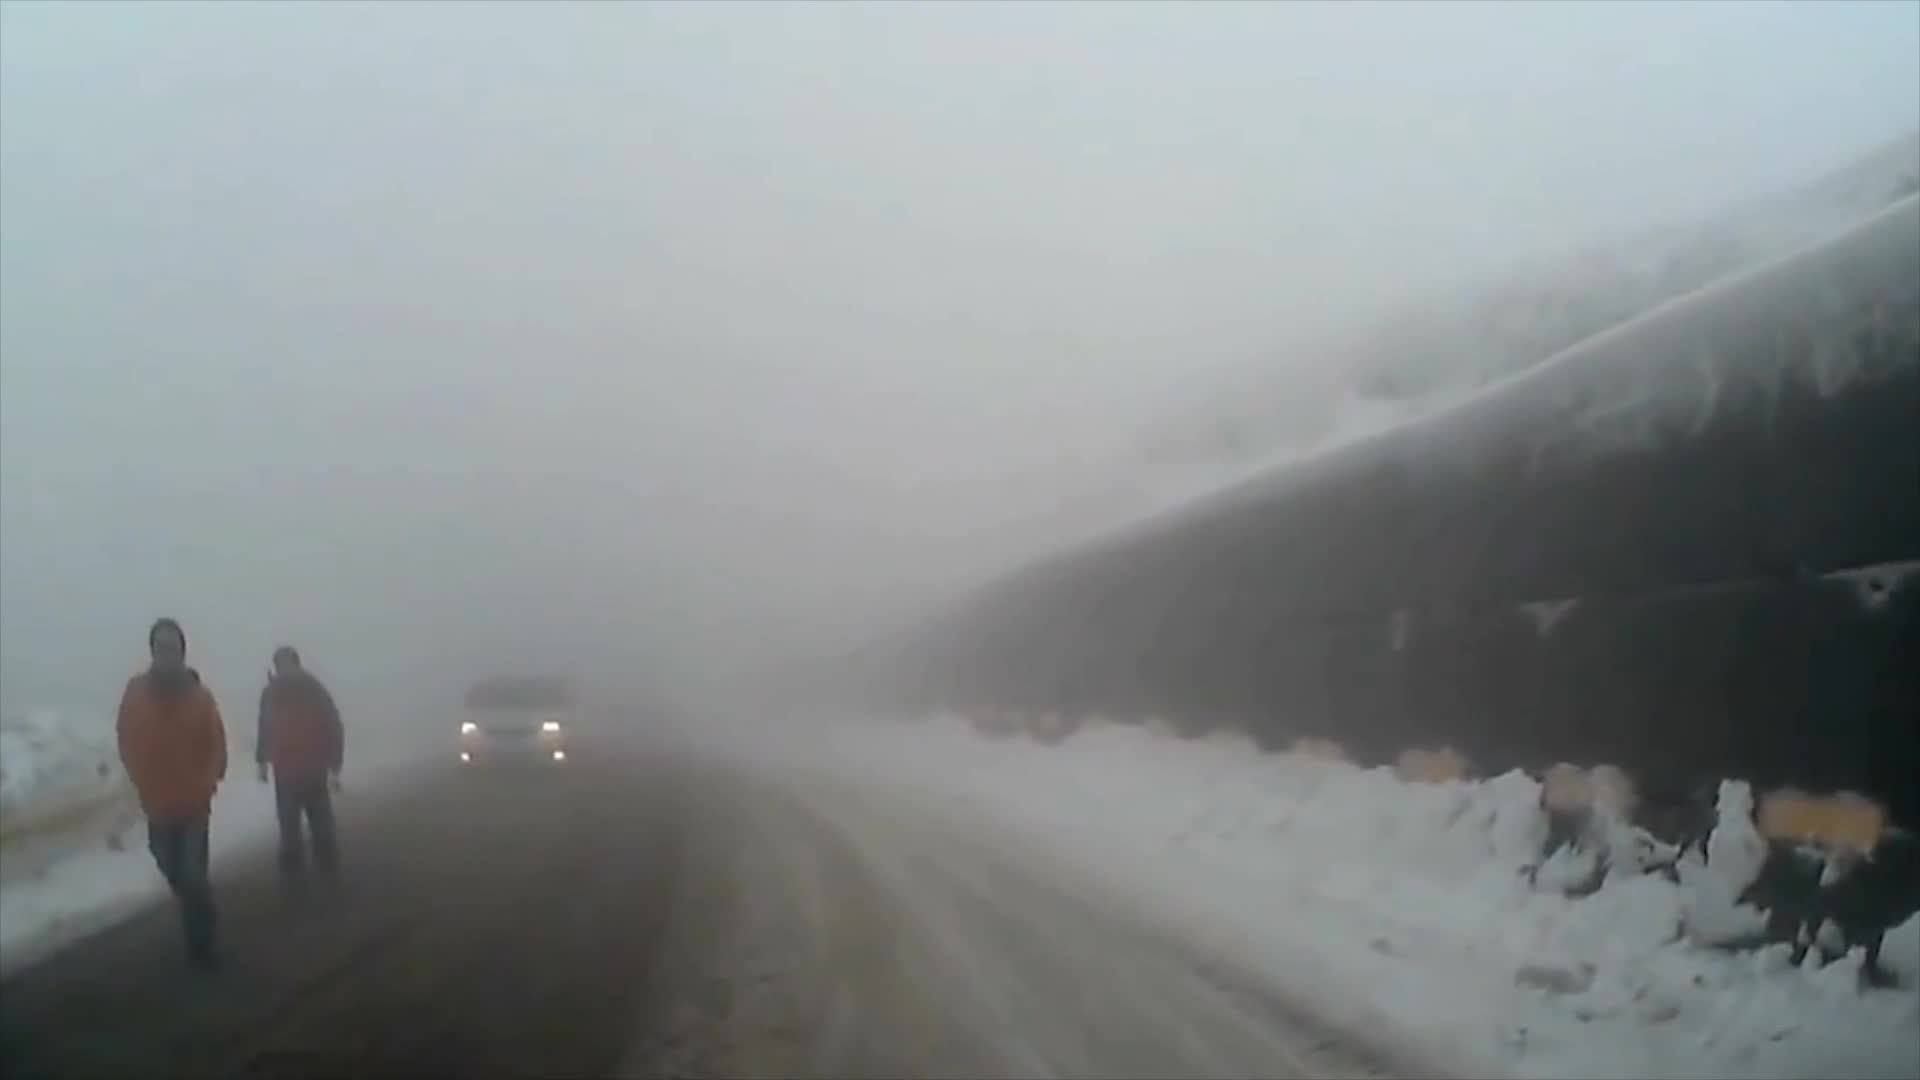pedestrian: (117, 617, 231, 975), (251, 645, 347, 892)
vehicle: (456, 673, 577, 783)
